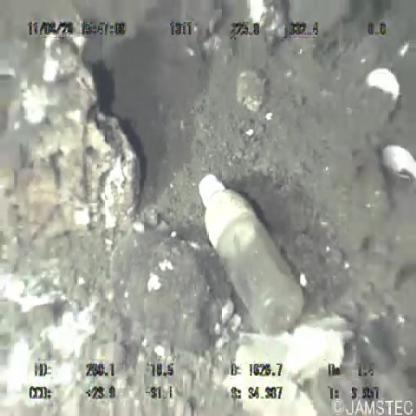Rác: (199, 176, 304, 338)
